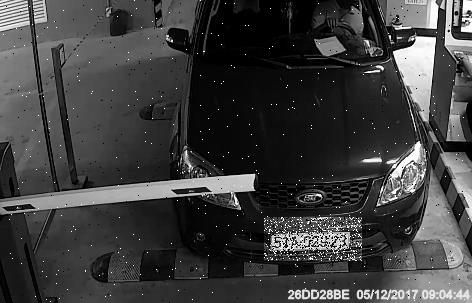License-plate: (265, 218, 363, 262)
